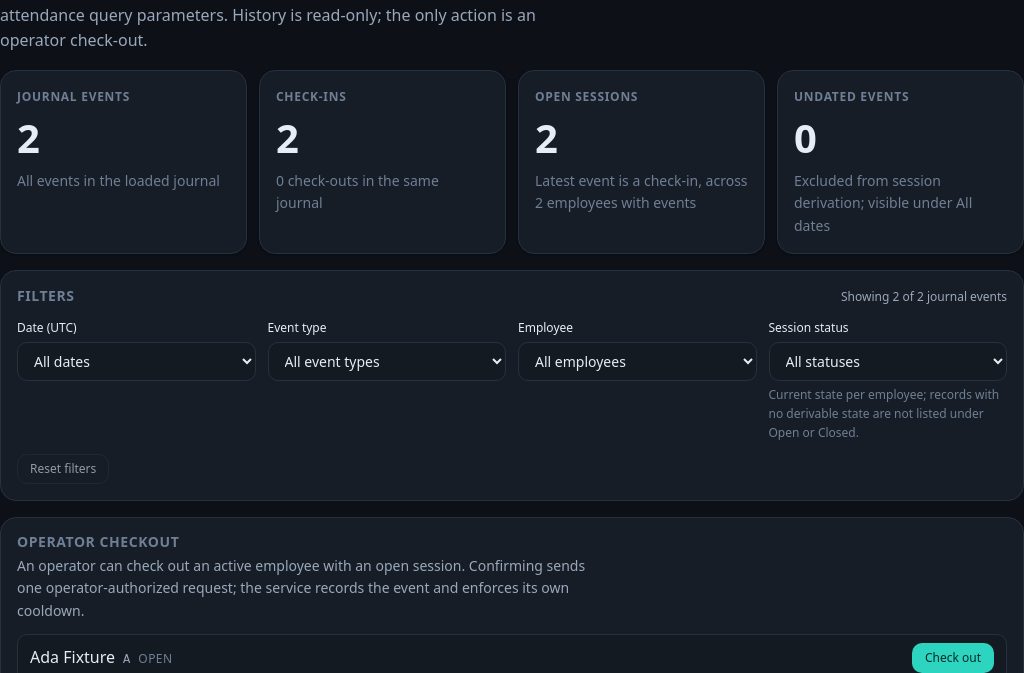
Scenario: checkout confirmation › keeps other employees usable while one check-out is pending
Click the button with aria-label "Check out Ada Fixture" at (953, 658), box top-left (912, 643), bottom-right (994, 672)
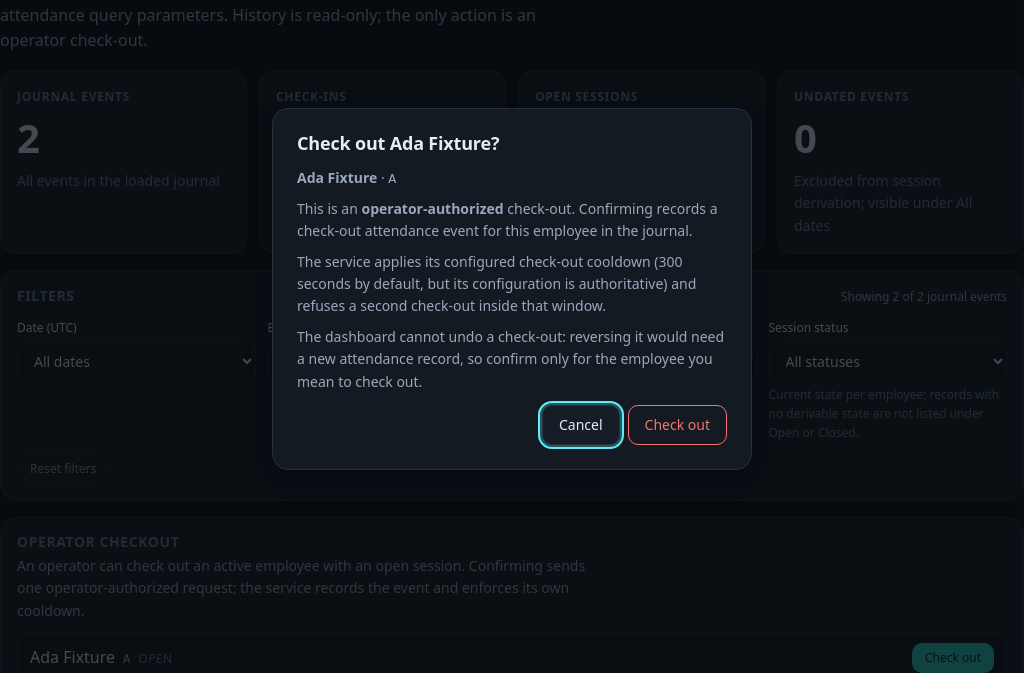
Click the button "Check out" at (677, 425), box top-left (628, 405), bottom-right (727, 445)
(page scrolled)
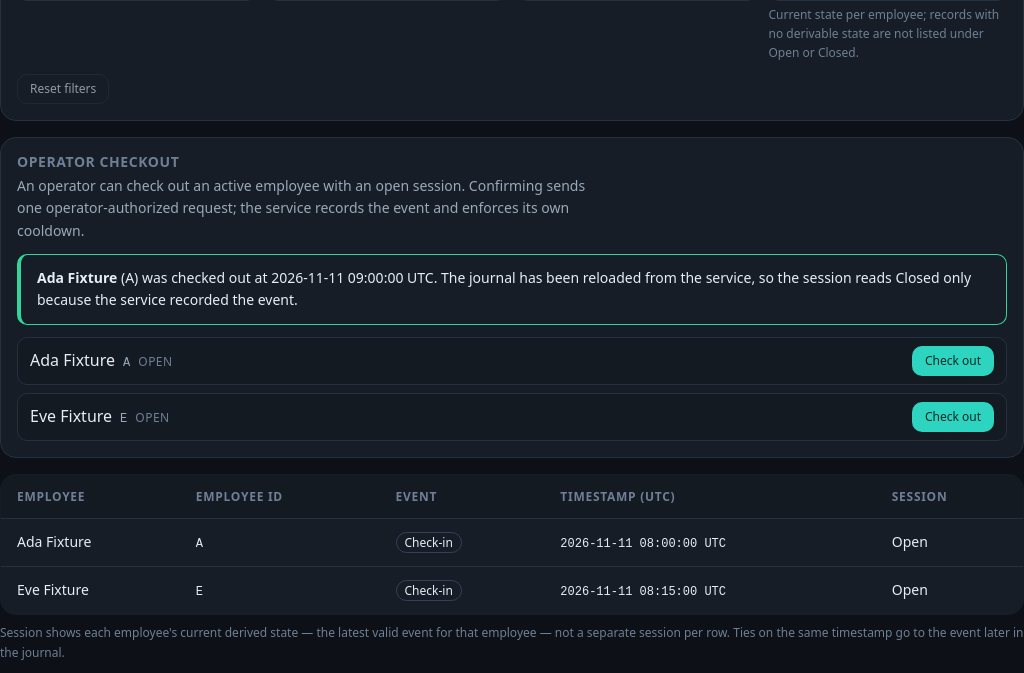
Expected: the button with aria-label "Check out Eve Fixture" is enabled, top-left (912, 402), bottom-right (994, 432)
Now the text "was checked out at" is shown, box top-left (134, 268), bottom-right (268, 287)
